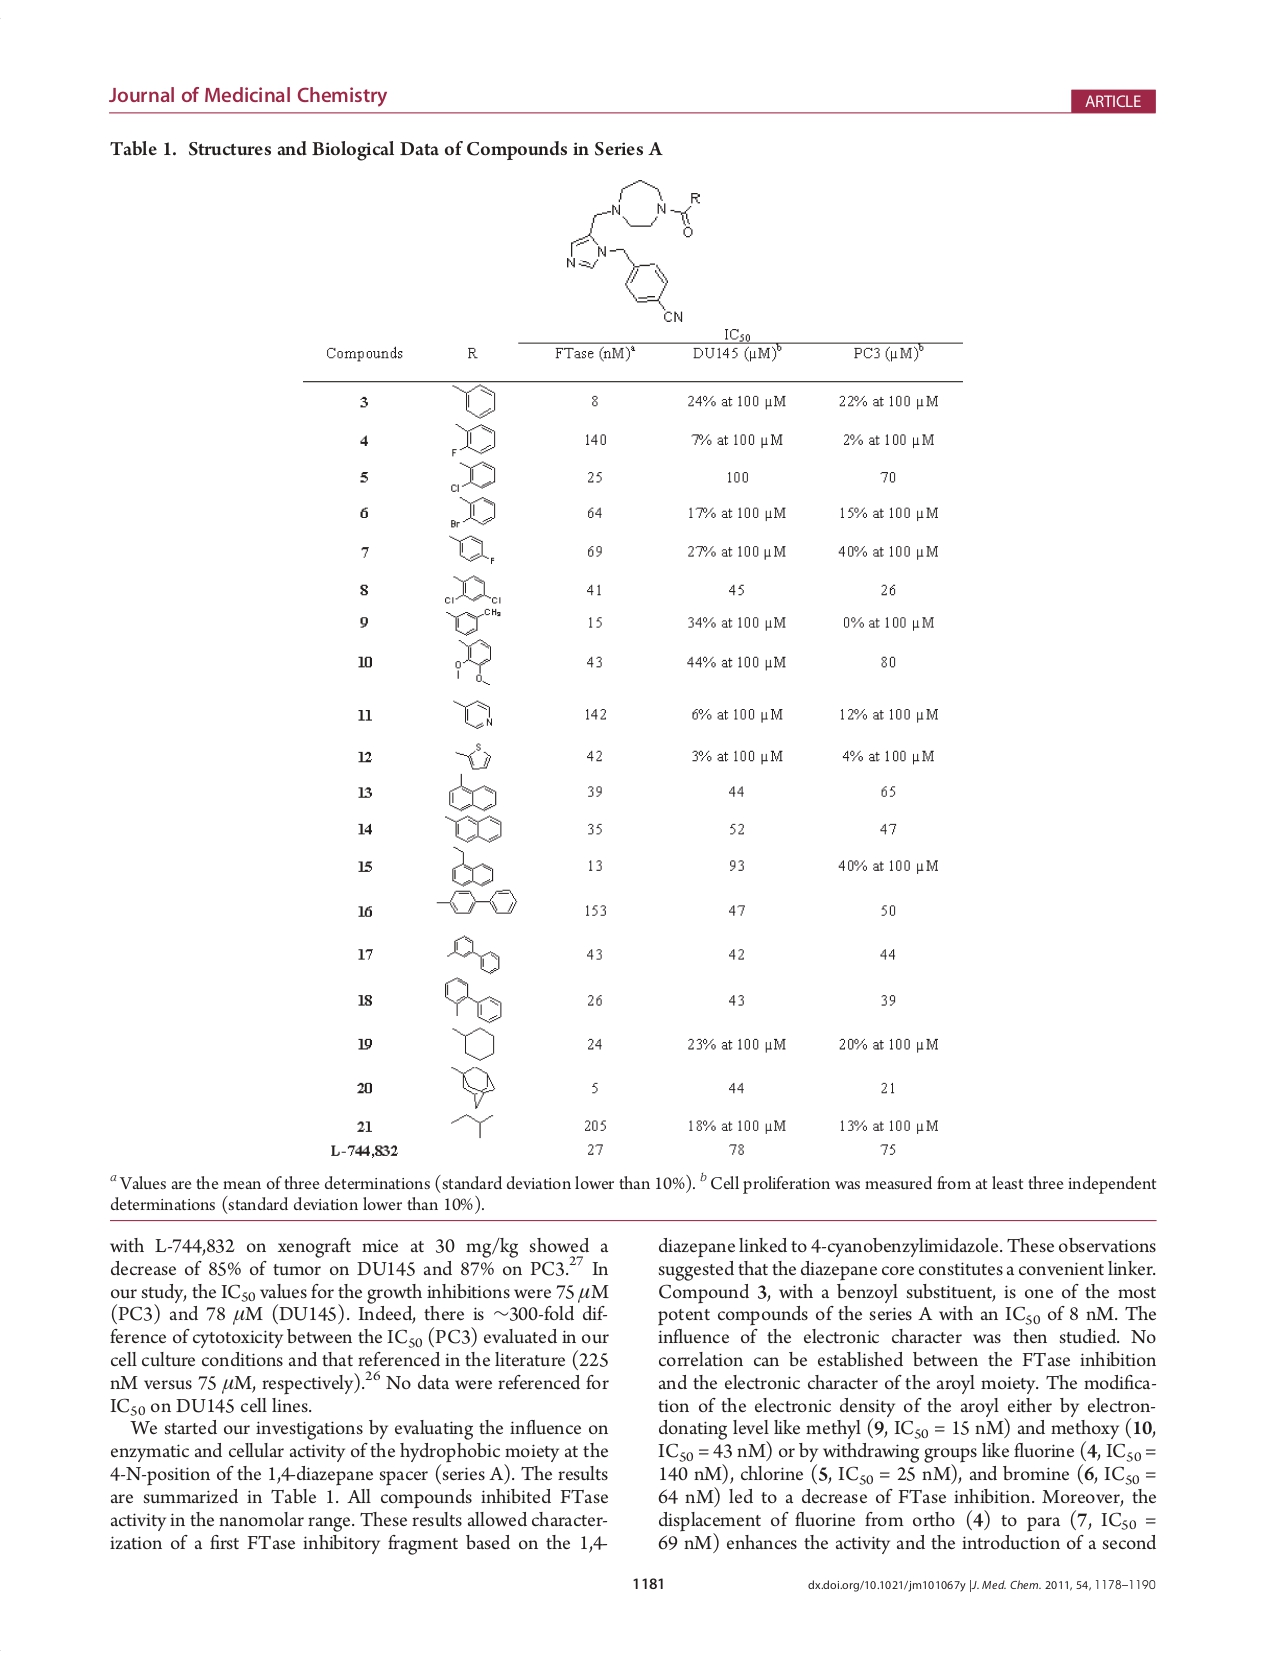exist_molecular: (563, 176, 703, 327), (442, 973, 505, 1024), (445, 931, 503, 973), (434, 888, 520, 916), (448, 1063, 497, 1110), (449, 843, 497, 887), (452, 637, 493, 688), (445, 773, 497, 813), (442, 606, 504, 637), (444, 573, 501, 606), (445, 531, 497, 567), (444, 813, 504, 843), (449, 1023, 496, 1061), (449, 422, 497, 457), (449, 495, 497, 531), (451, 384, 497, 420), (451, 696, 496, 731), (449, 460, 497, 493), (448, 1110, 496, 1140), (453, 742, 492, 771)
